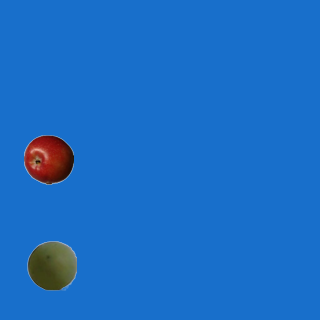Apple Braeburn: (23, 134, 73, 184)
Grape White 4: (26, 240, 76, 290)
